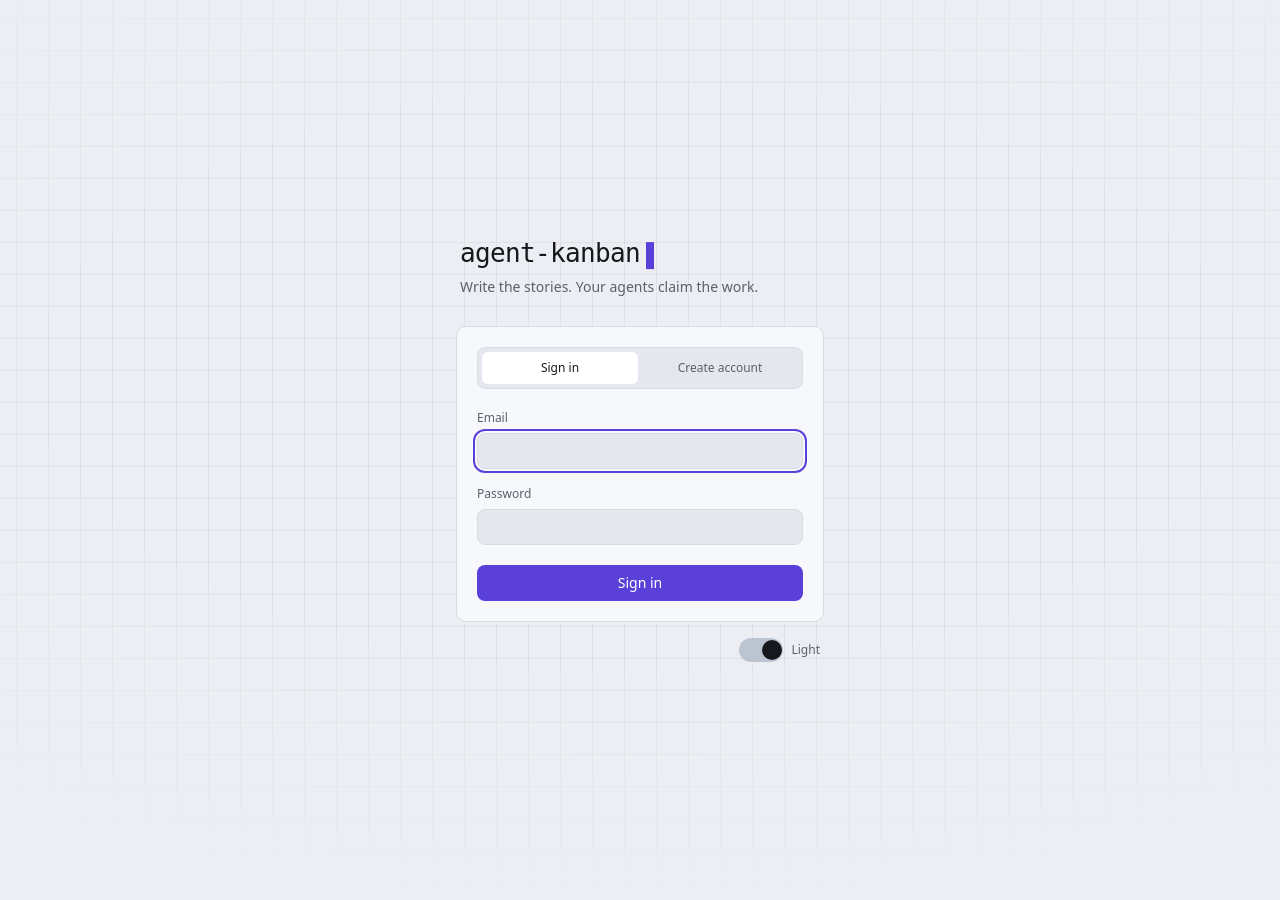
Test: AuthScreen › states the password rule before anything is submitted
Step 1. Click the tab "Create account" → (720, 368), box x1=642 y1=352 x2=798 y2=384
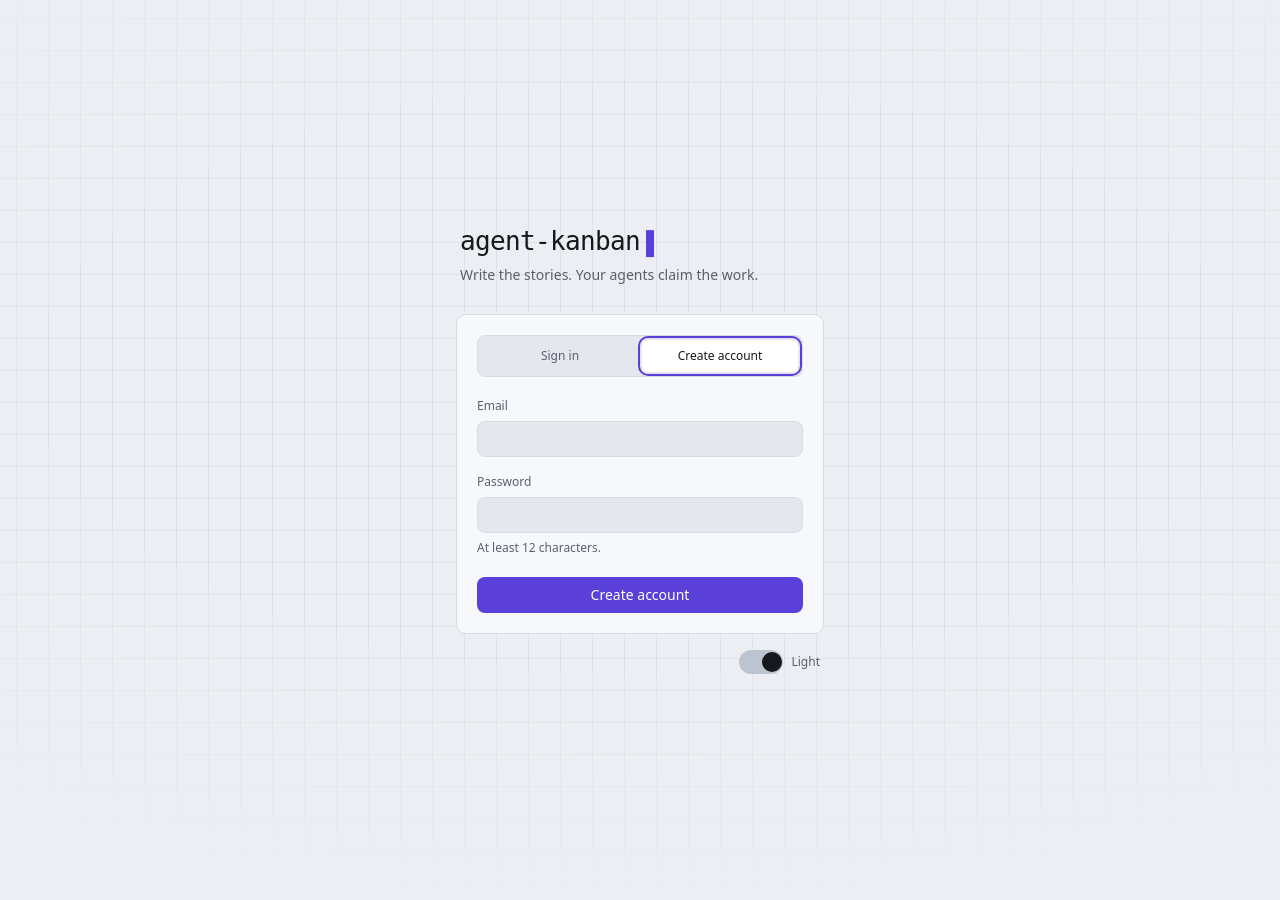
Expected: the text "At least 12 characters." is shown, x1=477 y1=538 x2=601 y2=556
